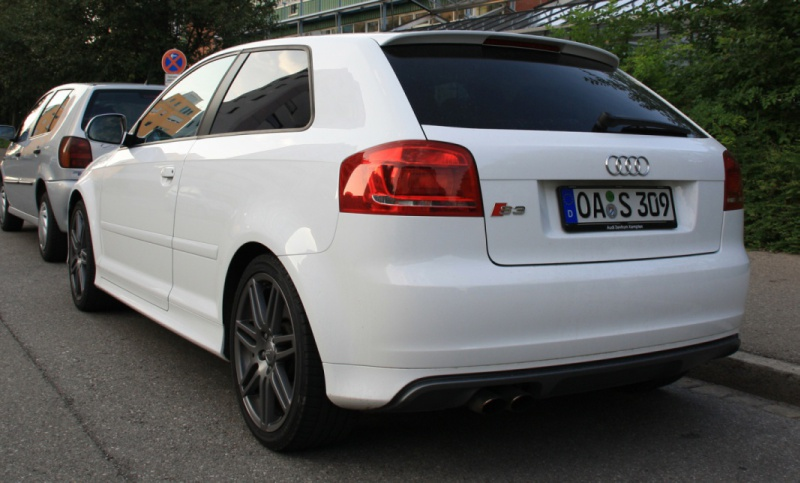audi: (599, 149, 658, 182)
